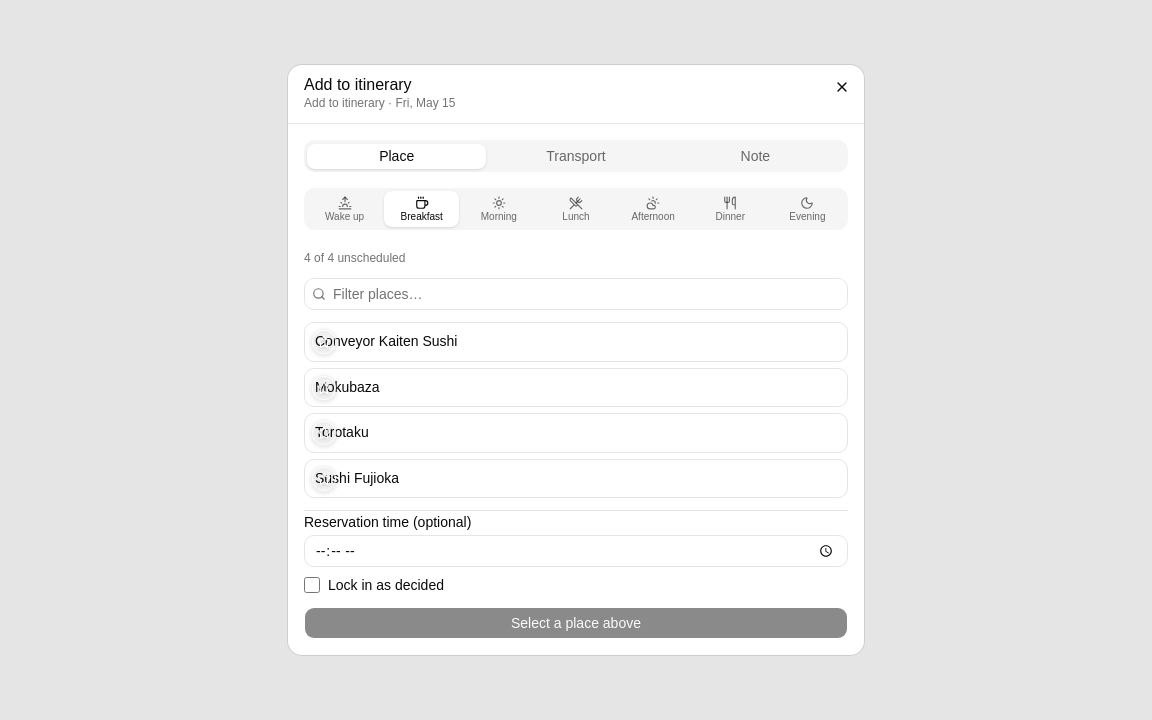
it: AddItemDialog (controlled API) › filters the unscheduled list by name (case-insensitive substring)
Expected: the text "Conveyor Kaiten Sushi" is shown, [315, 333, 457, 350]
Expected: the text "Mokubaza" is shown, [315, 378, 380, 396]
Type "sushi" → only the two sushi places match
Type "sushi" into the field with placeholder "Filter places…" at (576, 294), box [304, 278, 848, 310]
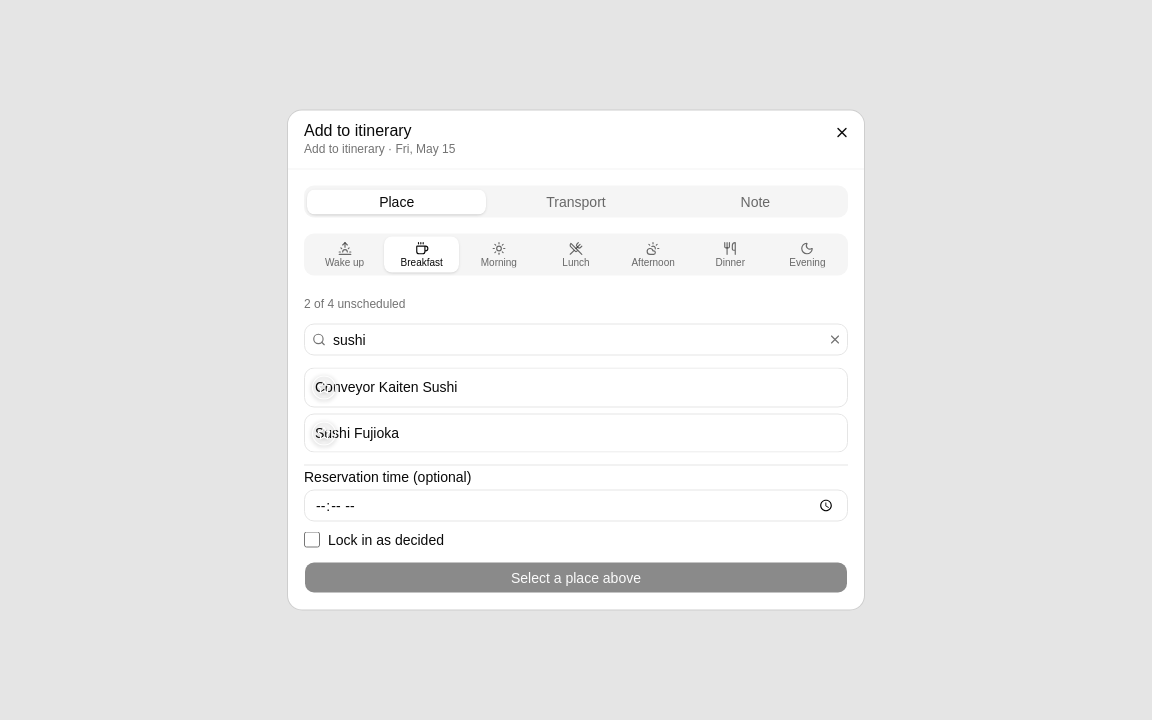
Expected: the text "Conveyor Kaiten Sushi" is shown, [315, 378, 457, 396]
Result: the button "Mokubaza" is gone
Result: the button "Torotaku" is gone
Clear filter via X button — full list returns
Click the button named "clear filter" at (835, 340), box [828, 332, 842, 346]
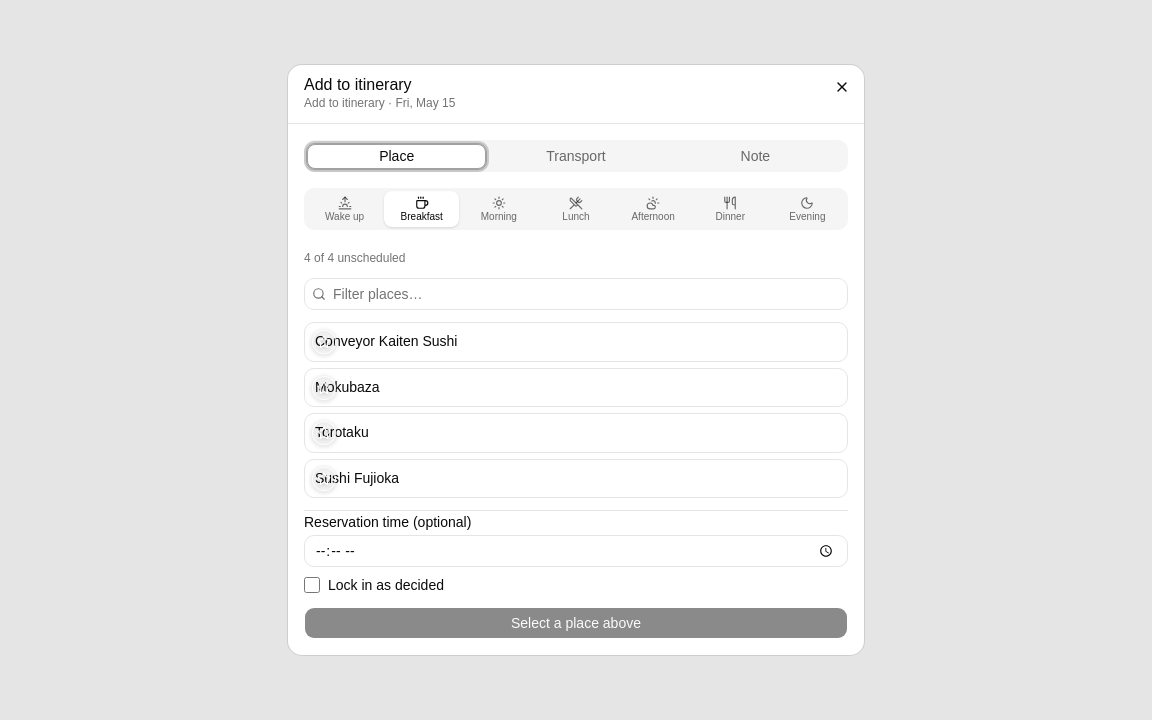
Result: the text "Mokubaza" is shown at [315, 378, 380, 396]
Result: the text "Torotaku" is shown at [315, 424, 369, 442]
